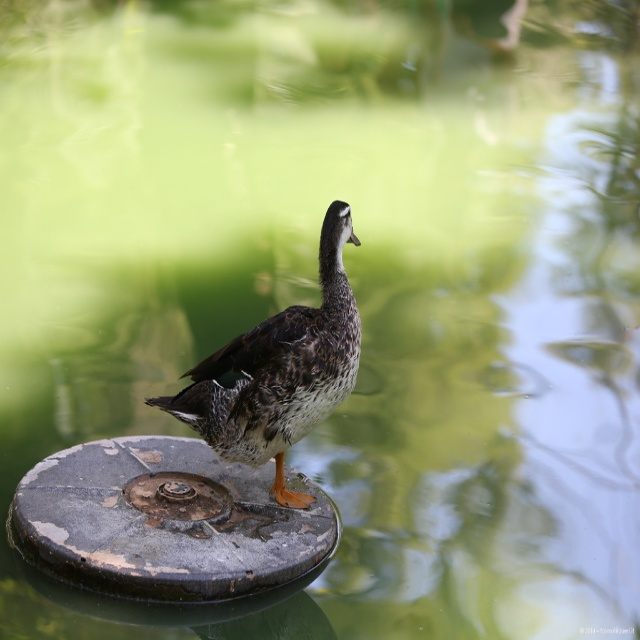Duck: (148, 195, 369, 505)
